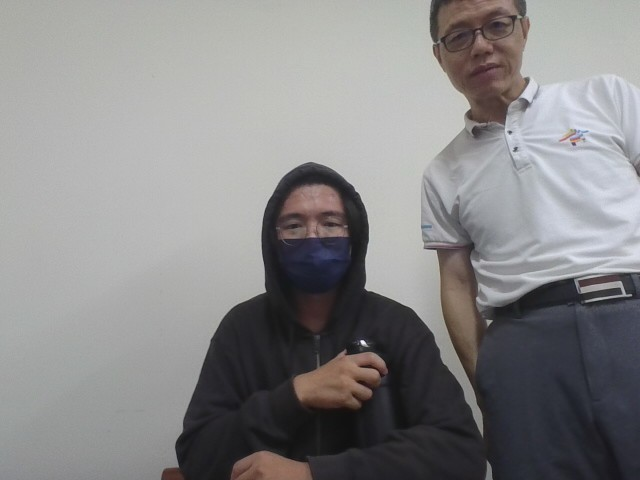No_Gloves: (291, 346, 389, 413), (223, 447, 322, 480)
No_Helmet: (257, 158, 371, 296), (424, 0, 537, 112)
person: (155, 141, 499, 480), (408, 0, 639, 478)
